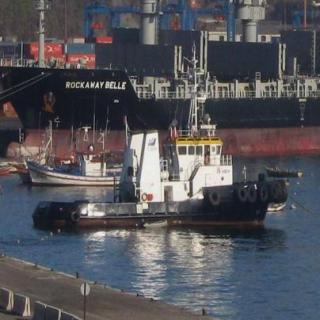Tug Boat: (19, 61, 285, 222)
